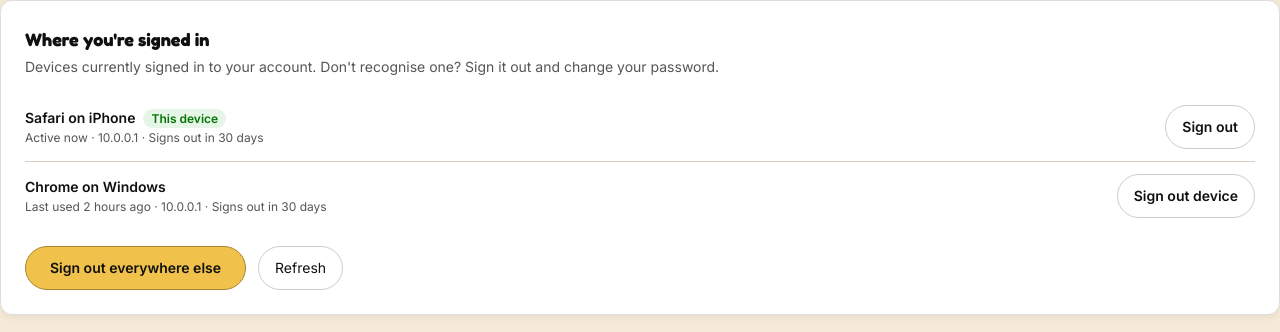
it: SignedInDevices › drops only the revoked row when it's another device
Click the button "Sign out device". click: coordinates (1186, 196)
box: 1117,174 -> 1255,218
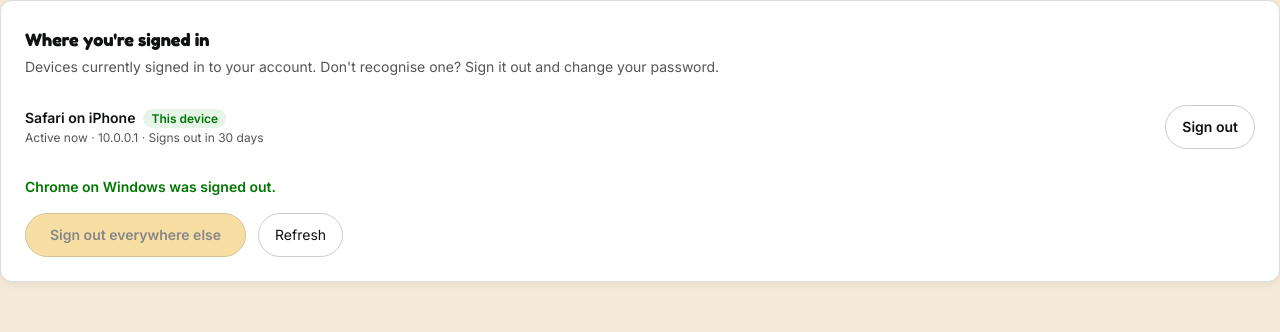
Expected: the text "Safari on iPhone" is shown, 25,109 -> 136,126
Now the text "Chrome on Windows was signed out." is shown, box 25,178 -> 276,195
